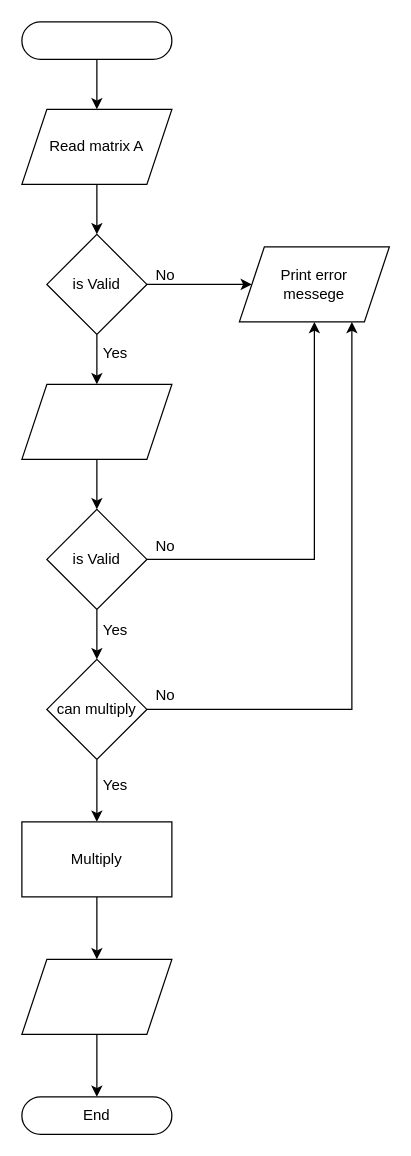
Image size: 411x1156. Some labels were removed from this diagram. The box of each missing label's shape, as (x1, y1, x2, y2) in pixels:
Print multiplied matrix: (21, 958, 172, 1034)
Read matrix B: (21, 383, 172, 459)
Start: (21, 21, 172, 59)
